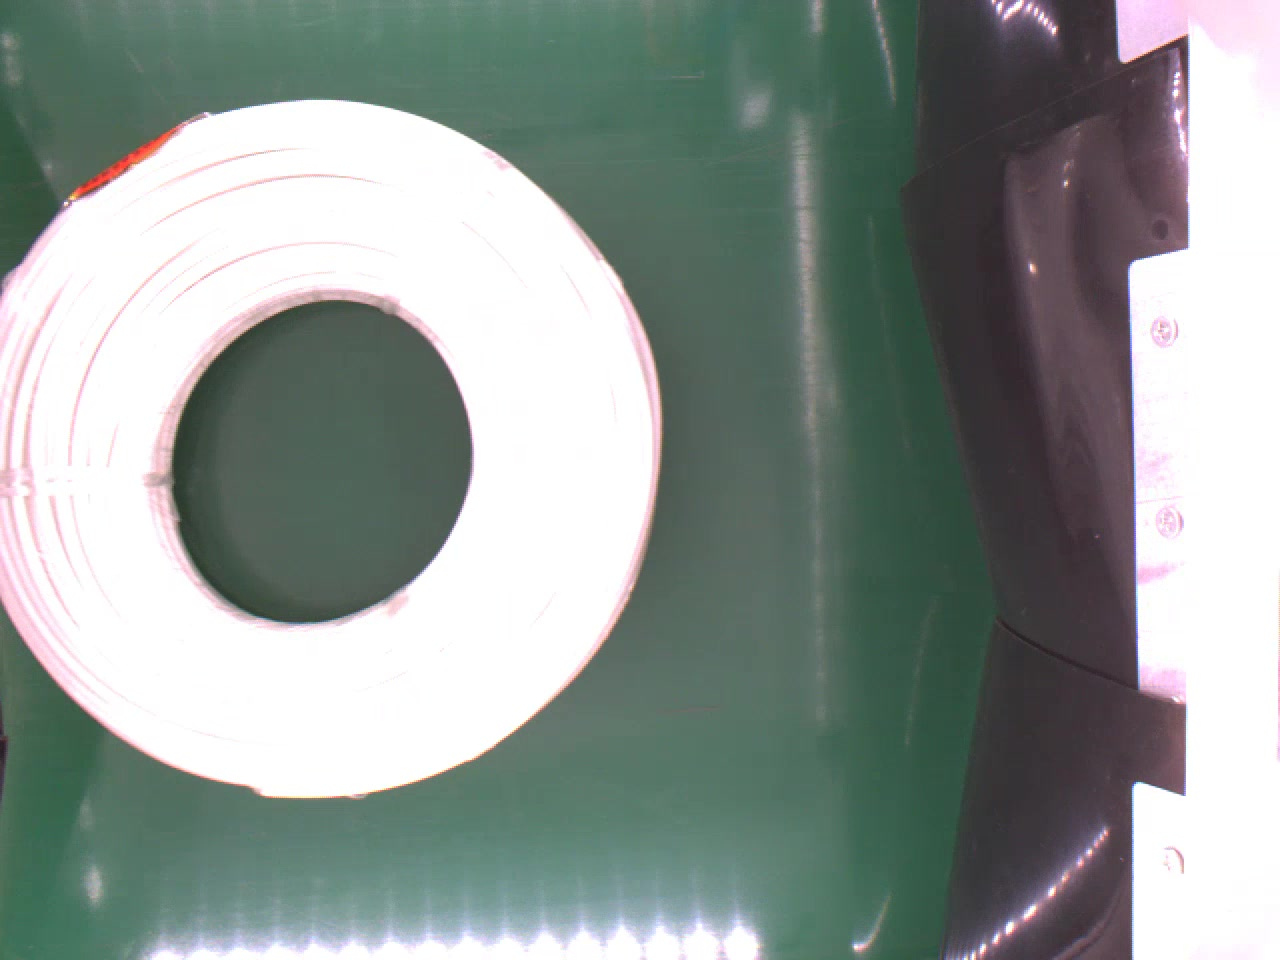white: (0, 97, 661, 798)
